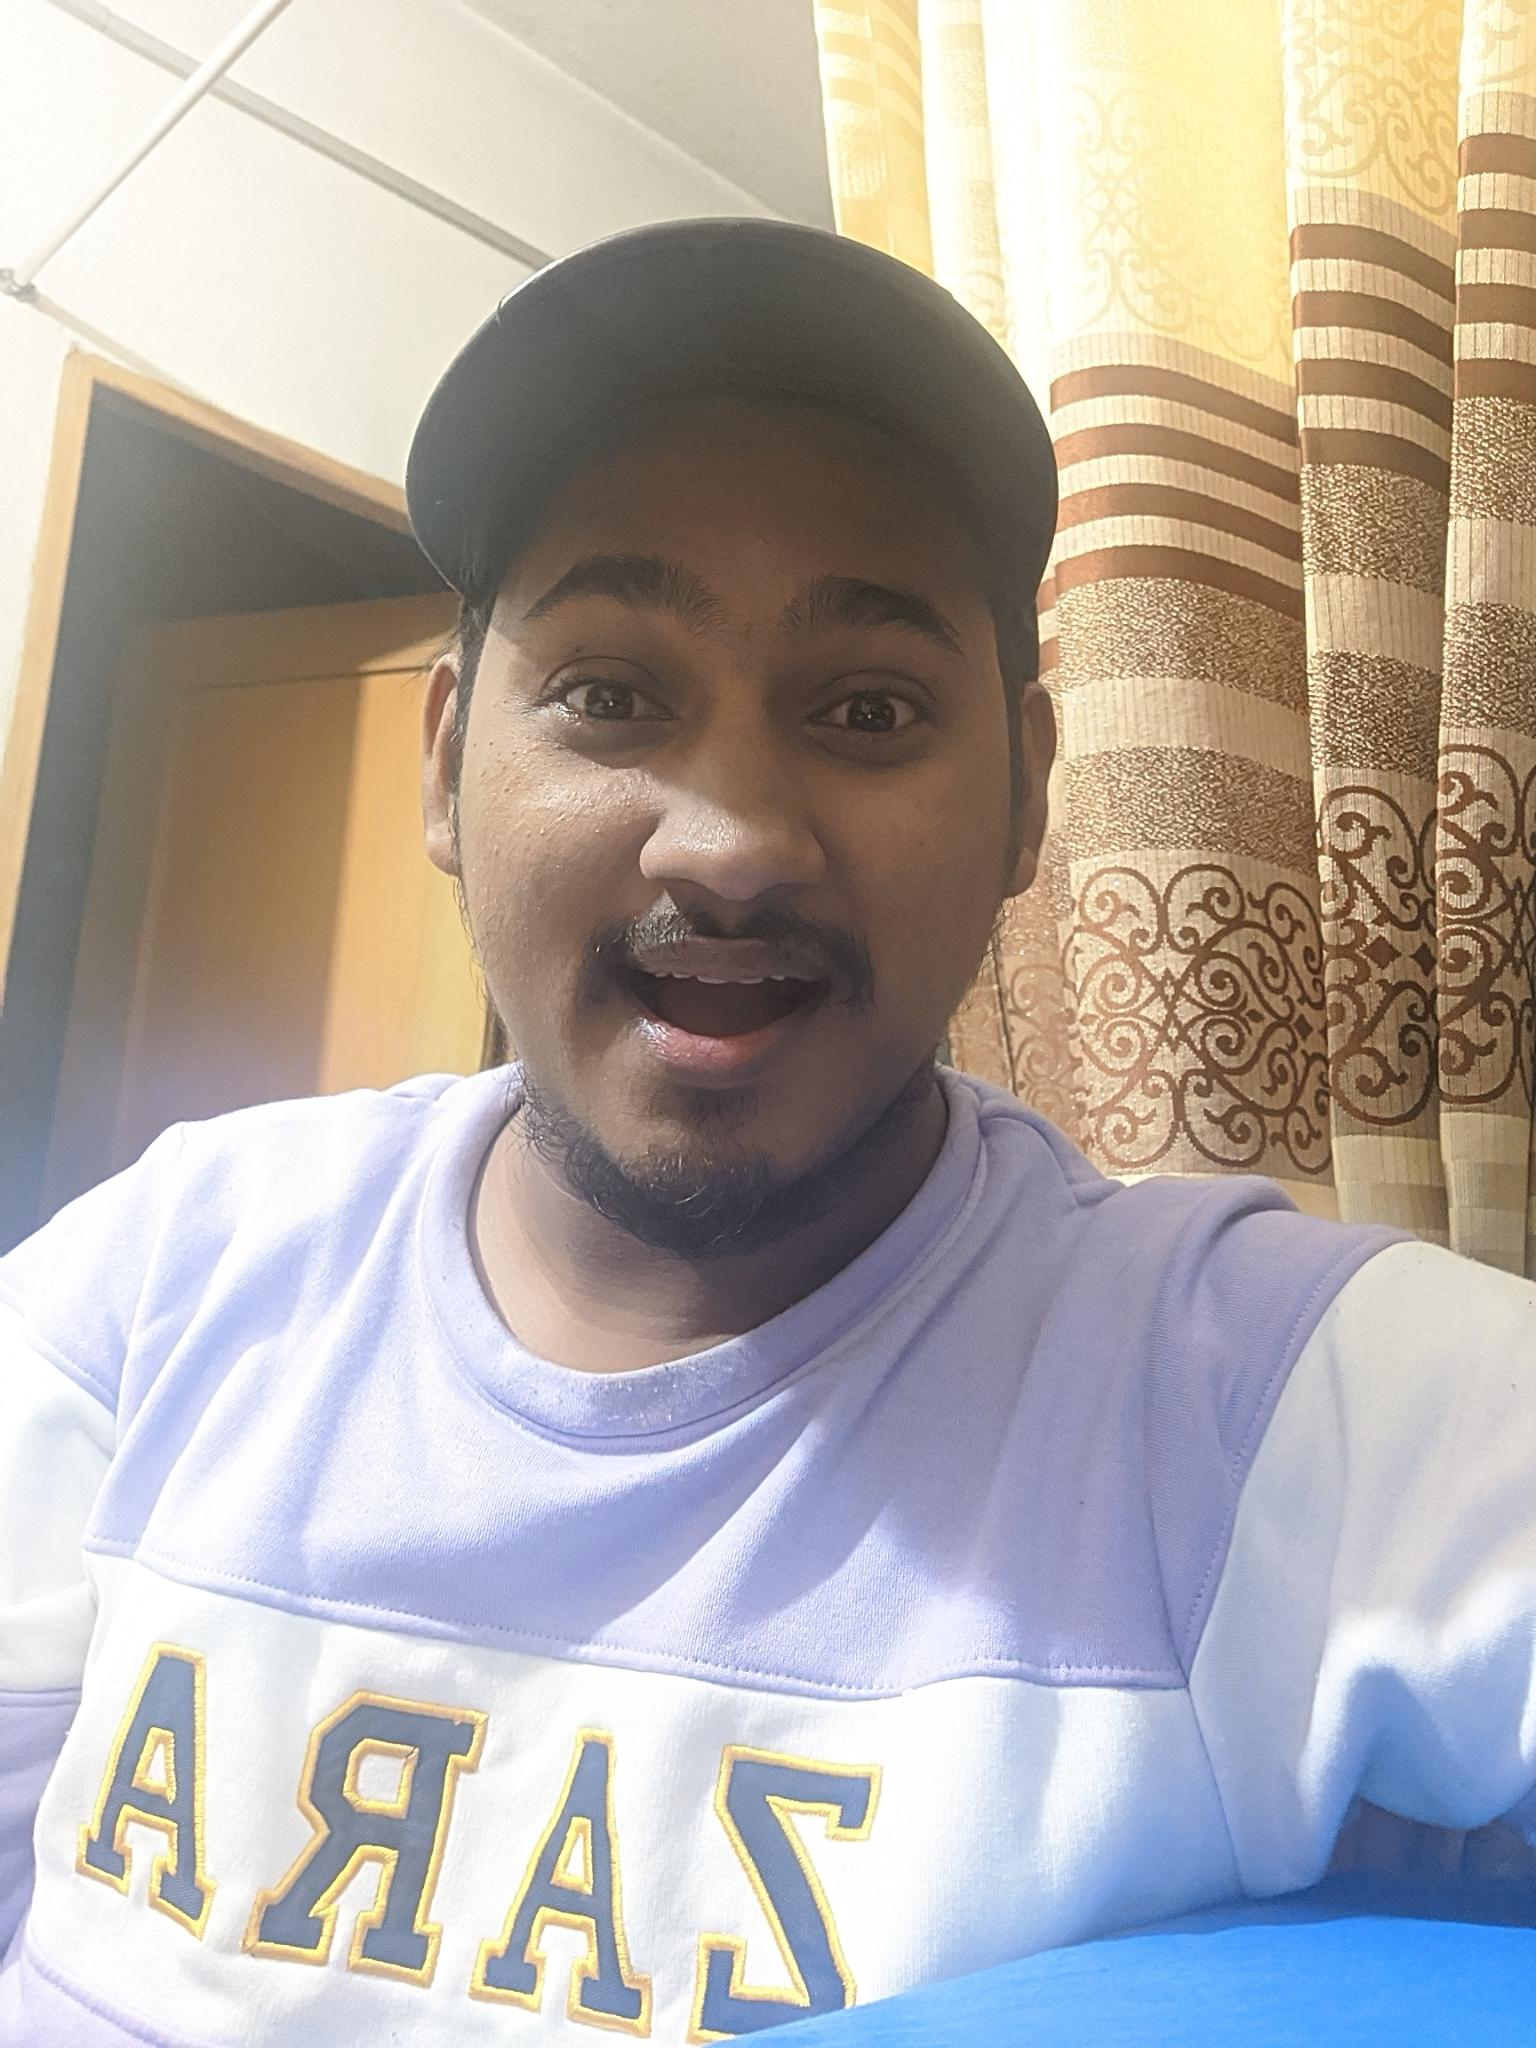Surprise: (460, 460, 999, 1208)
